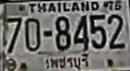0: (24, 17, 40, 50)
2: (108, 13, 124, 48)
4: (73, 14, 88, 50)
5: (89, 14, 105, 48)
7: (5, 17, 21, 52)
8: (55, 15, 70, 50)
PBI: (44, 52, 90, 70)
